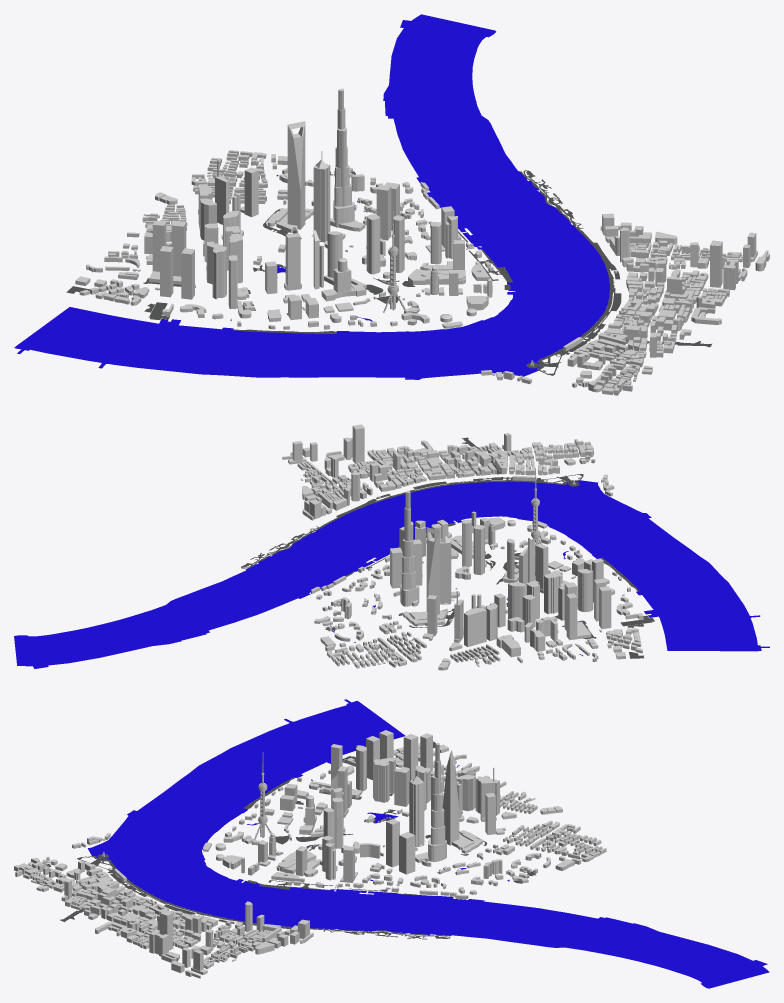
File: map.glb
3 views of the same model, one above another, from view 1: azimuth 30°, elevation 25°; view 2: azimuth 150°, elevation 25°; view 3: azimuth 270°, elevation 25° (orthographic). The views are drawn at different scales.
Parts seen in each view (by area): view 1: map_9.osm_water, map_9.osm_buildings, map_9.osm_areas_pedestrian; view 2: map_9.osm_water, map_9.osm_buildings, map_9.osm_areas_pedestrian; view 3: map_9.osm_water, map_9.osm_buildings, map_9.osm_areas_pedestrian.
Boxes of the visible parts, bbox=[...] form: map_9.osm_water: bbox=[14, 14, 609, 379]; map_9.osm_buildings: bbox=[75, 88, 769, 395]; map_9.osm_areas_pedestrian: bbox=[66, 170, 712, 386]; map_9.osm_water: bbox=[14, 480, 769, 669]; map_9.osm_buildings: bbox=[282, 424, 643, 670]; map_9.osm_areas_pedestrian: bbox=[241, 437, 654, 658]; map_9.osm_water: bbox=[87, 699, 769, 988]; map_9.osm_buildings: bbox=[14, 730, 606, 978]; map_9.osm_areas_pedestrian: bbox=[46, 741, 487, 939].
Bounding box in the file's own units: 3446 × 632 × 3803.
